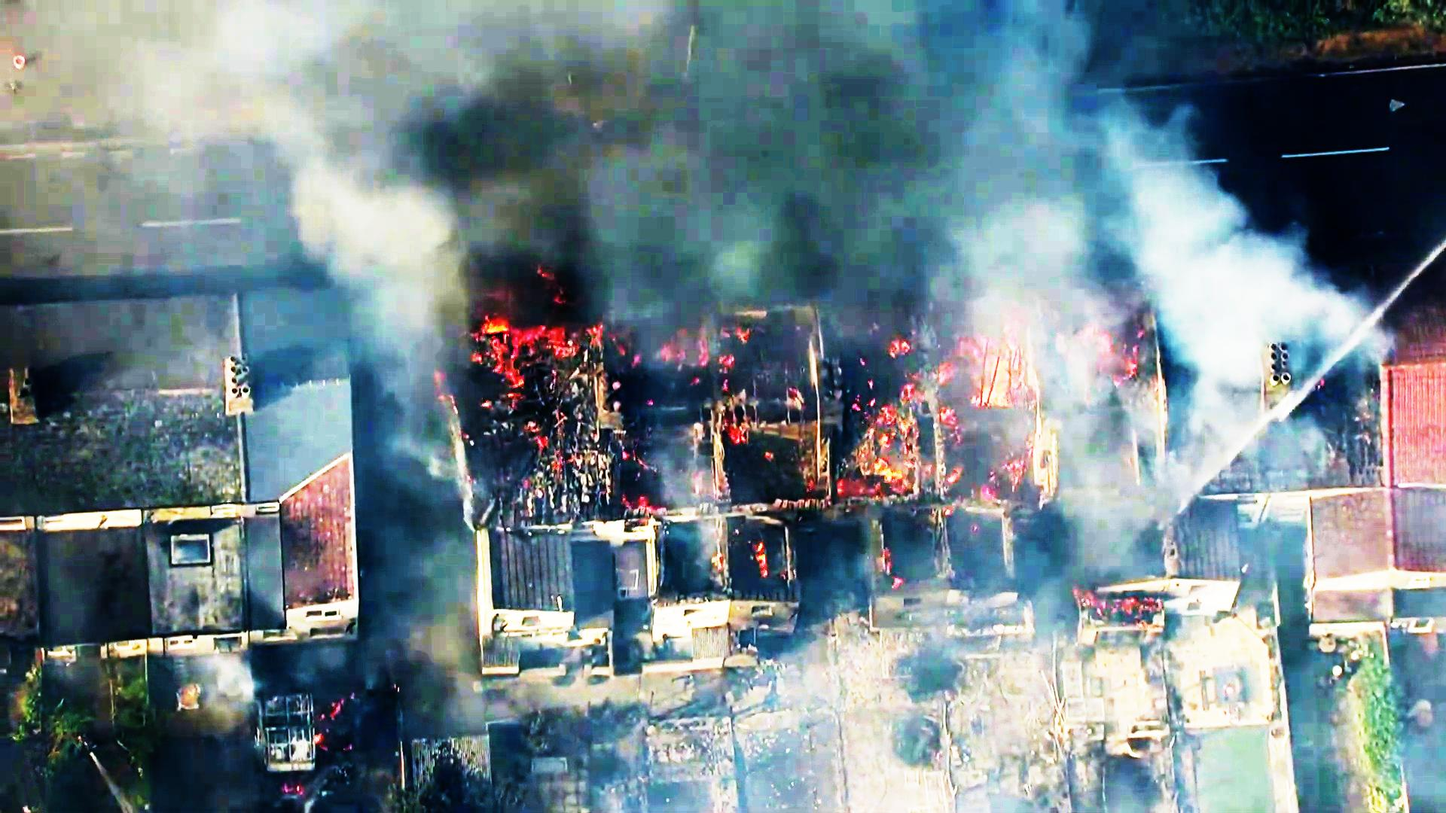fire: (909, 324, 1045, 414), (462, 303, 587, 366)
smoke: (256, 2, 1075, 246)
